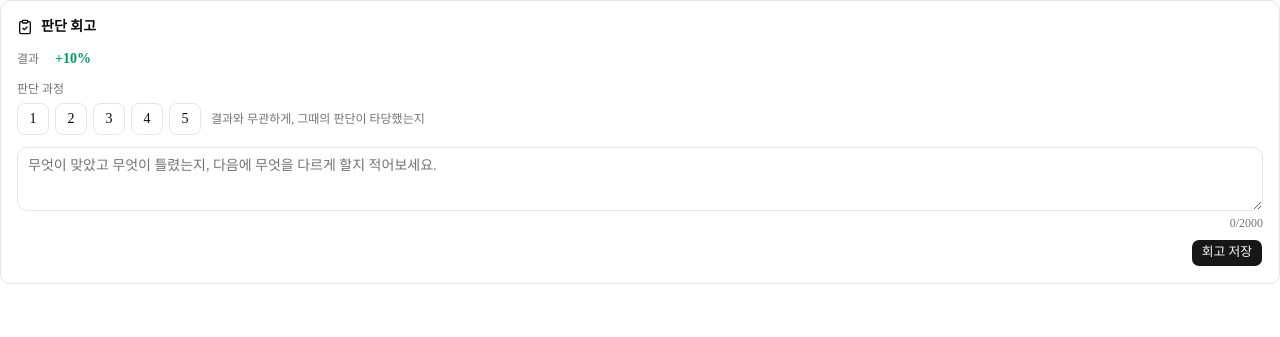
Test: JournalReviewCard › 과정 점수를 고르면 사분면을 즉시 알려준다
The width and height of the screenshot is (1280, 337).
Click the button named "판단 과정 2".
click(71, 119)  # box [55,103,87,135]
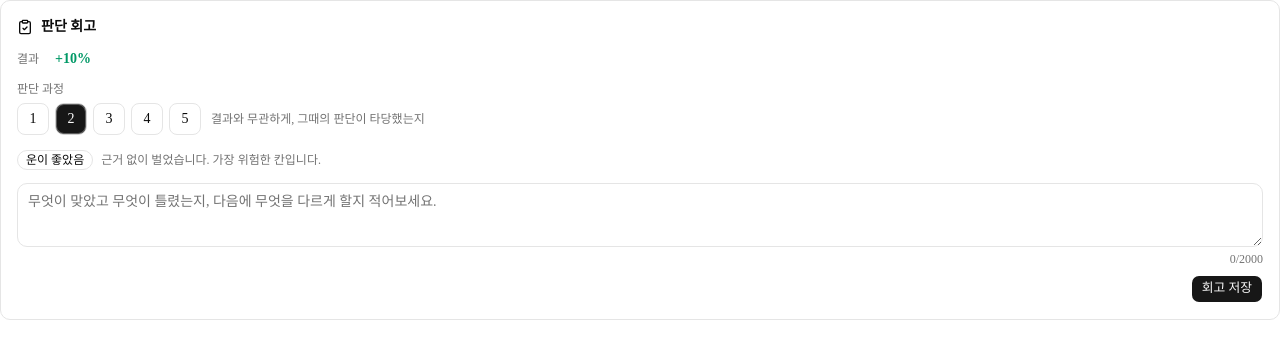
Expected: the text "운이 좋았음" is shown, [17,150,93,170]
Click the button named "판단 과정 5".
click(185, 119)  # box [169,103,201,135]
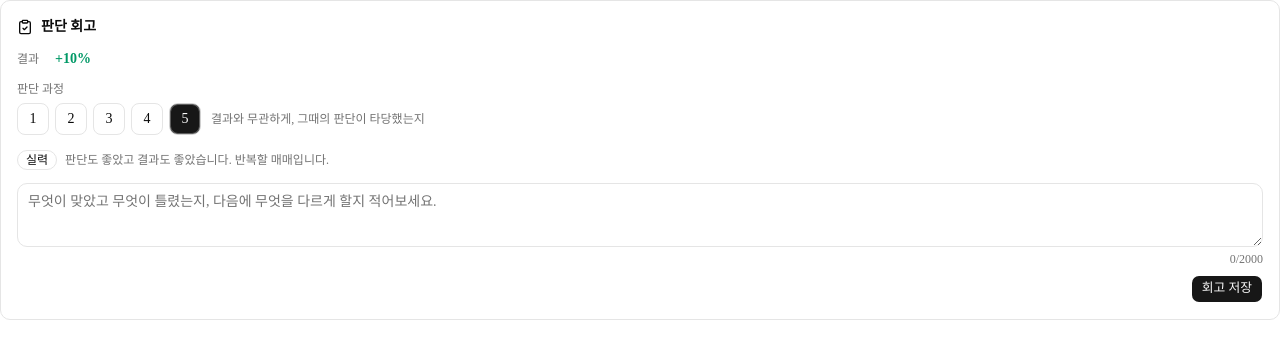
Expected: the icon "실력" is shown, [17,150,57,170]
